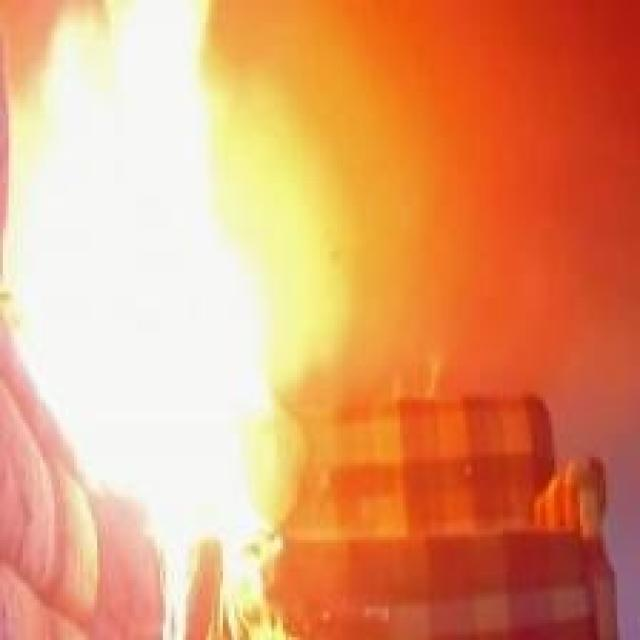fire: (3, 0, 328, 609)
